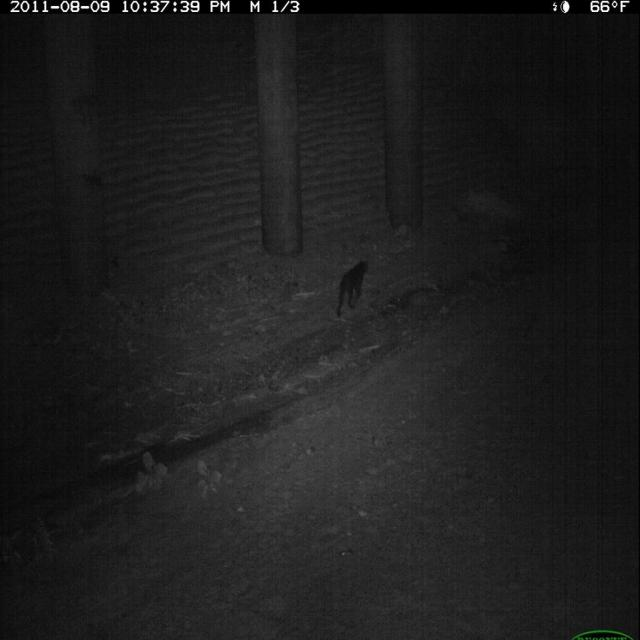cat: (332, 251, 375, 325)
